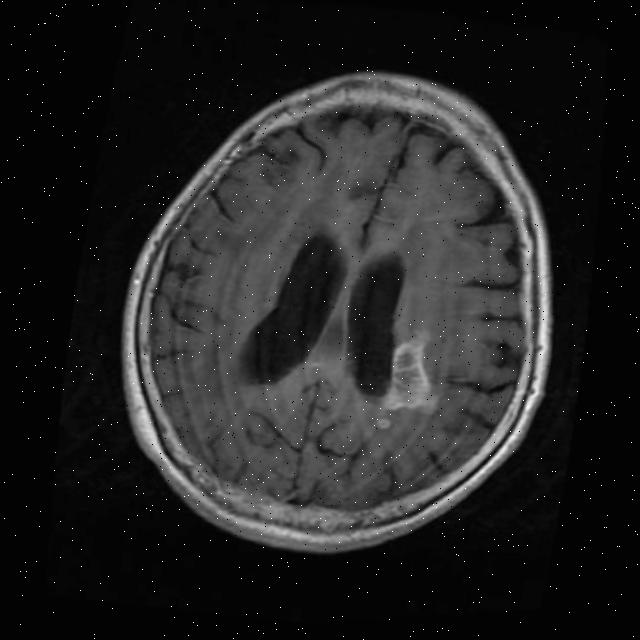Glioma: (381, 322, 448, 416), (374, 416, 393, 431)
